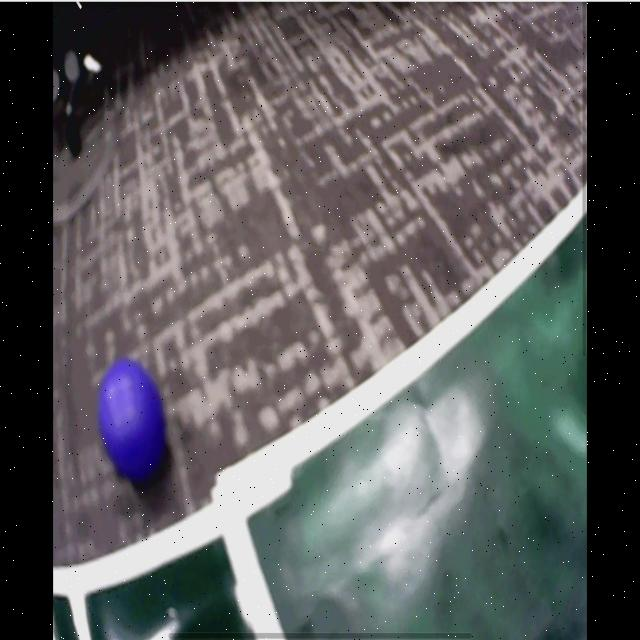ball: (99, 358, 165, 478)
